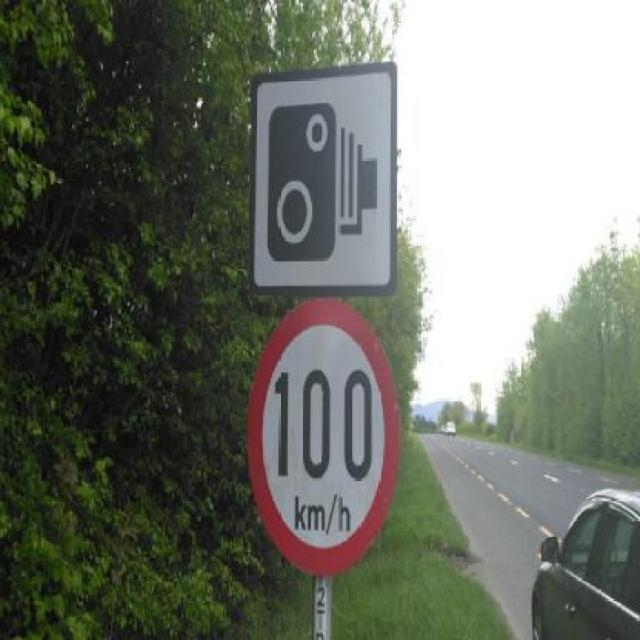forb_speed_over_100: (256, 304, 395, 568)
